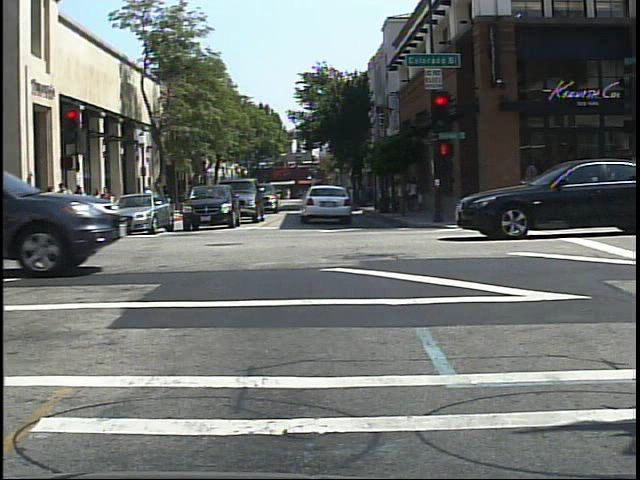person: (157, 180, 175, 215), (140, 183, 158, 213), (93, 189, 101, 227)
